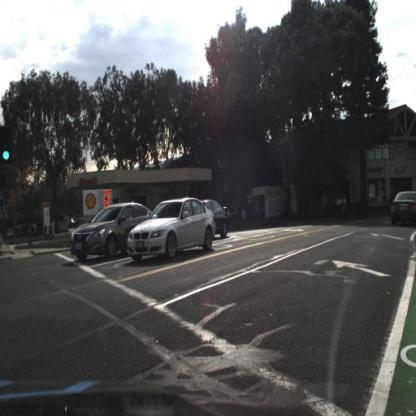car: (126, 196, 220, 263), (69, 201, 133, 262), (198, 197, 231, 241), (388, 183, 416, 227)
trafficLight-Green: (1, 134, 12, 170)
